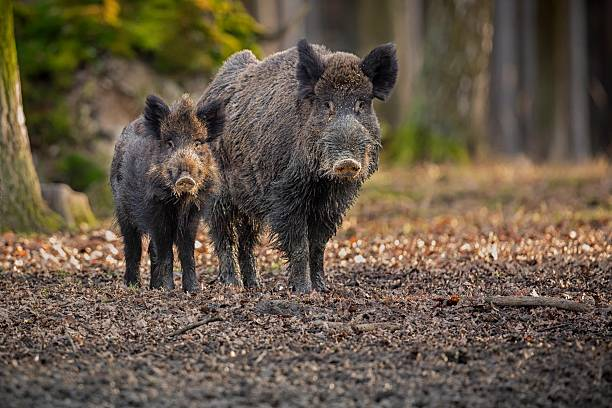pig: (264, 43, 402, 202), (120, 93, 220, 222)
